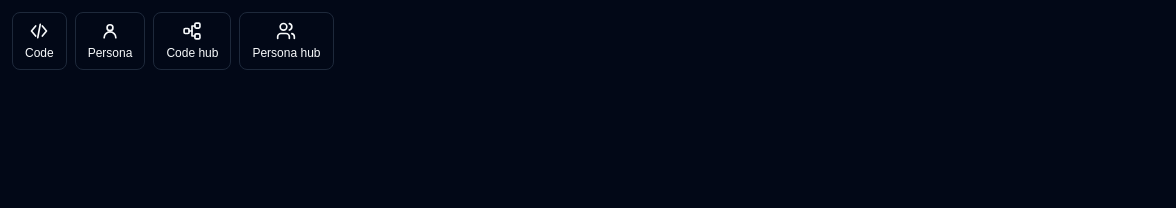
Test: FolderCreatorWizard — kind icon row › starts every flow with the identity step (name and root)
Click the button "Code" at (39, 41), box [12,12,67,70]
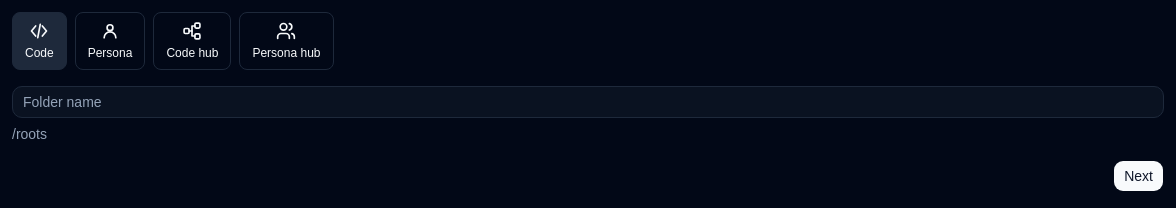
expect the field with placeholder "Folder name" is shown: met, box [12,86,1164,118]
